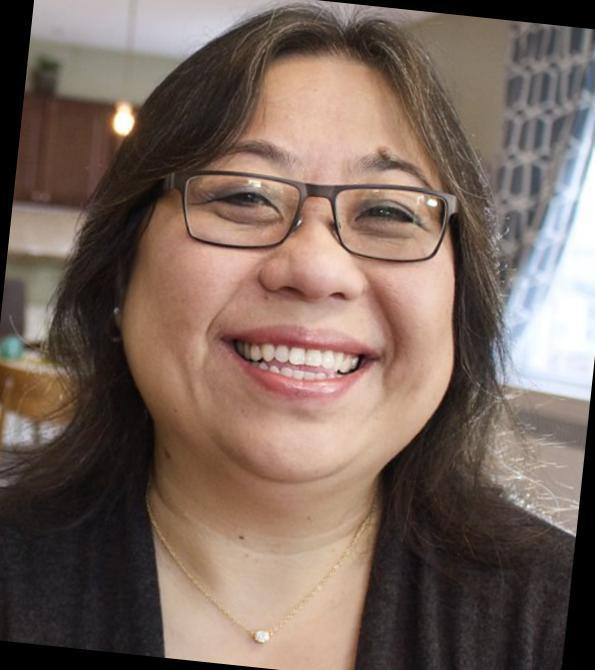Sober: (142, 89, 465, 455)
